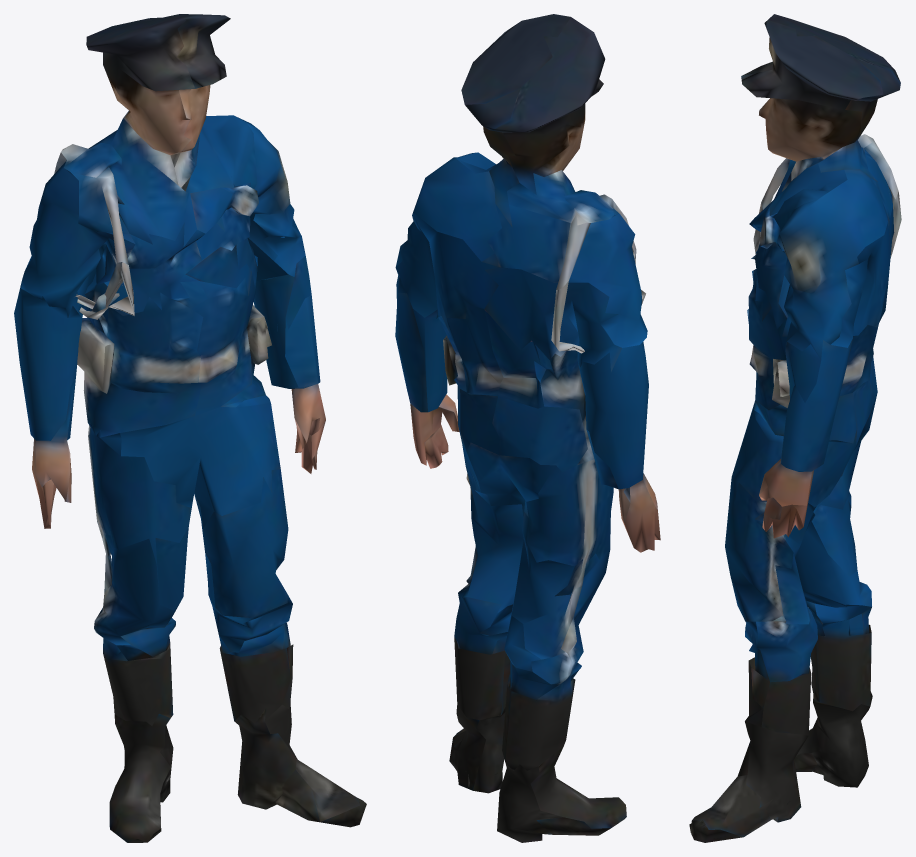
The model's file is polwan_jepang_idle_lod2.glb.
3 renders of one model, left to right at view 1: azimuth 30°, elevation 25°; view 2: azimuth 150°, elevation 25°; view 3: azimuth 270°, elevation 25°, orthographic. The views are drawn at different scales.
Visible parts, largest first — view 1: tripo_node_37ded99e-71b1-4b5f-b73d-52b77dd2bd4d; view 2: tripo_node_37ded99e-71b1-4b5f-b73d-52b77dd2bd4d; view 3: tripo_node_37ded99e-71b1-4b5f-b73d-52b77dd2bd4d.
Boxes of the visible parts, x1,y1,x2,y2 form: tripo_node_37ded99e-71b1-4b5f-b73d-52b77dd2bd4d: [14, 14, 366, 842]; tripo_node_37ded99e-71b1-4b5f-b73d-52b77dd2bd4d: [395, 14, 660, 842]; tripo_node_37ded99e-71b1-4b5f-b73d-52b77dd2bd4d: [689, 14, 901, 842].
Bounding box in the file's own units: 34.94 × 100 × 25.36.
1 material, 1 textured.
